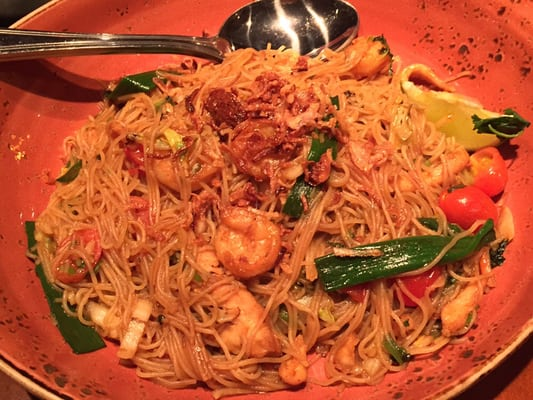burger: (1, 0, 364, 72)
